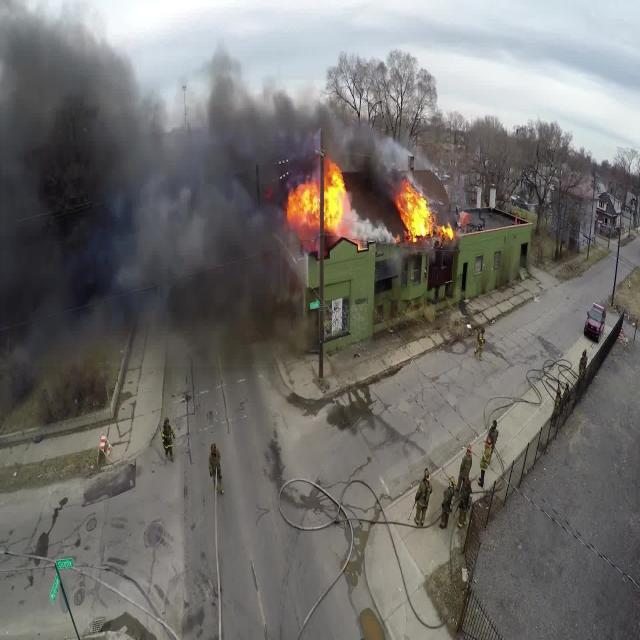Fire: (279, 154, 456, 240)
Smoke: (1, 8, 435, 368)
